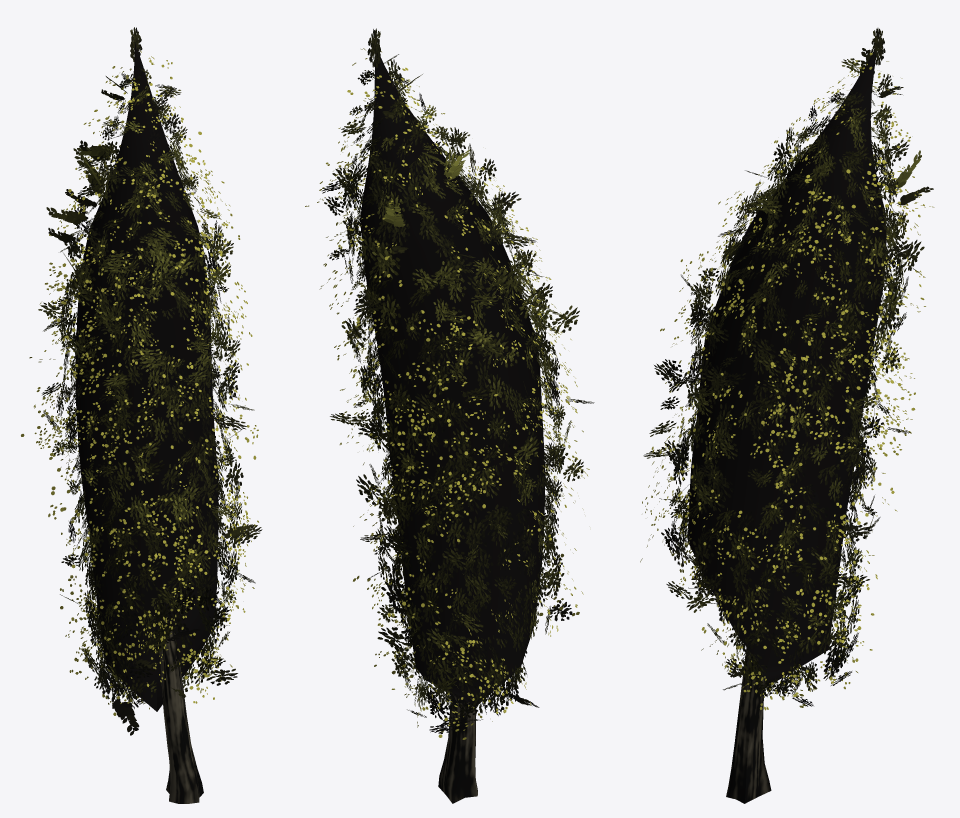
The model's file is AraTree03.glb.
3 renders of one model, left to right at view 1: azimuth 30°, elevation 25°; view 2: azimuth 150°, elevation 25°; view 3: azimuth 270°, elevation 25°, orthographic. The views are drawn at different scales.
Visible parts, largest first — view 1: AraTree03_leaves; view 2: AraTree03_leaves; view 3: AraTree03_leaves.
Boxes of the visible parts, x1=… form: AraTree03_leaves: x1=21, y1=27, x2=262, y2=803; AraTree03_leaves: x1=305, y1=28, x2=594, y2=803; AraTree03_leaves: x1=640, y1=28, x2=934, y2=803.
Size of the model in its own units: 3.48 by 11.65 by 4.23.
3 materials, 2 textured.
